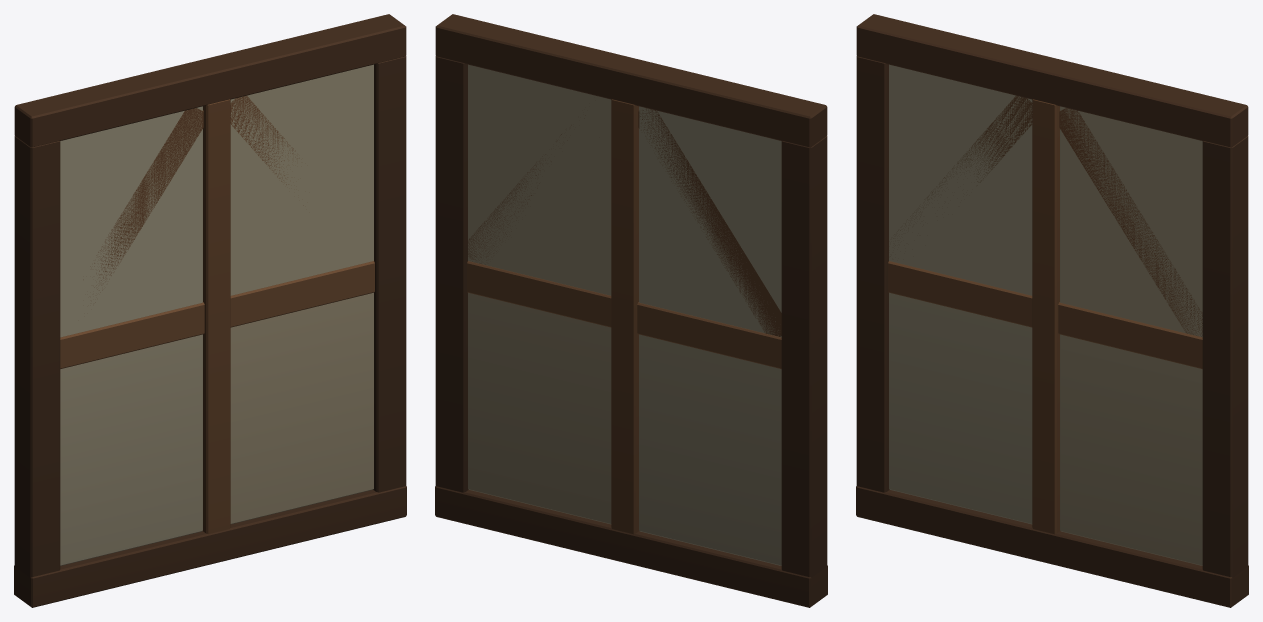
The model's file is piece_woodwall.glb.
3 renders of one model, left to right at view 1: azimuth 30°, elevation 25°; view 2: azimuth 150°, elevation 25°; view 3: azimuth 330°, elevation 25°, orthographic.
Visible parts, largest first — view 1: Base; view 2: Base; view 3: Base.
Part boxes in pixels (left/top/right/bottom): Base: left=14, top=14, right=406, bottom=607; Base: left=435, top=14, right=827, bottom=607; Base: left=856, top=14, right=1248, bottom=607.
Bounding box in the file's own units: 4 × 4.99 × 0.34.
